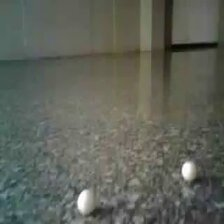w: (76, 190, 97, 216), (181, 161, 197, 181)
